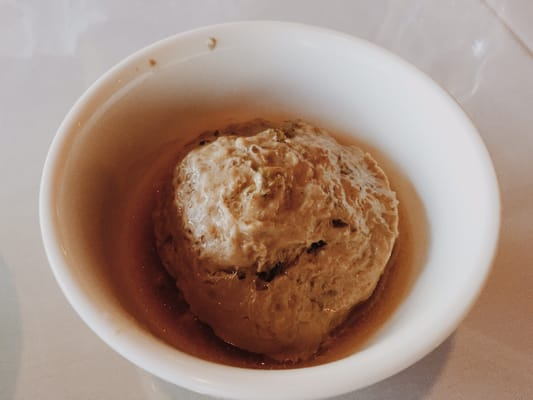sushi: (38, 19, 472, 400)
